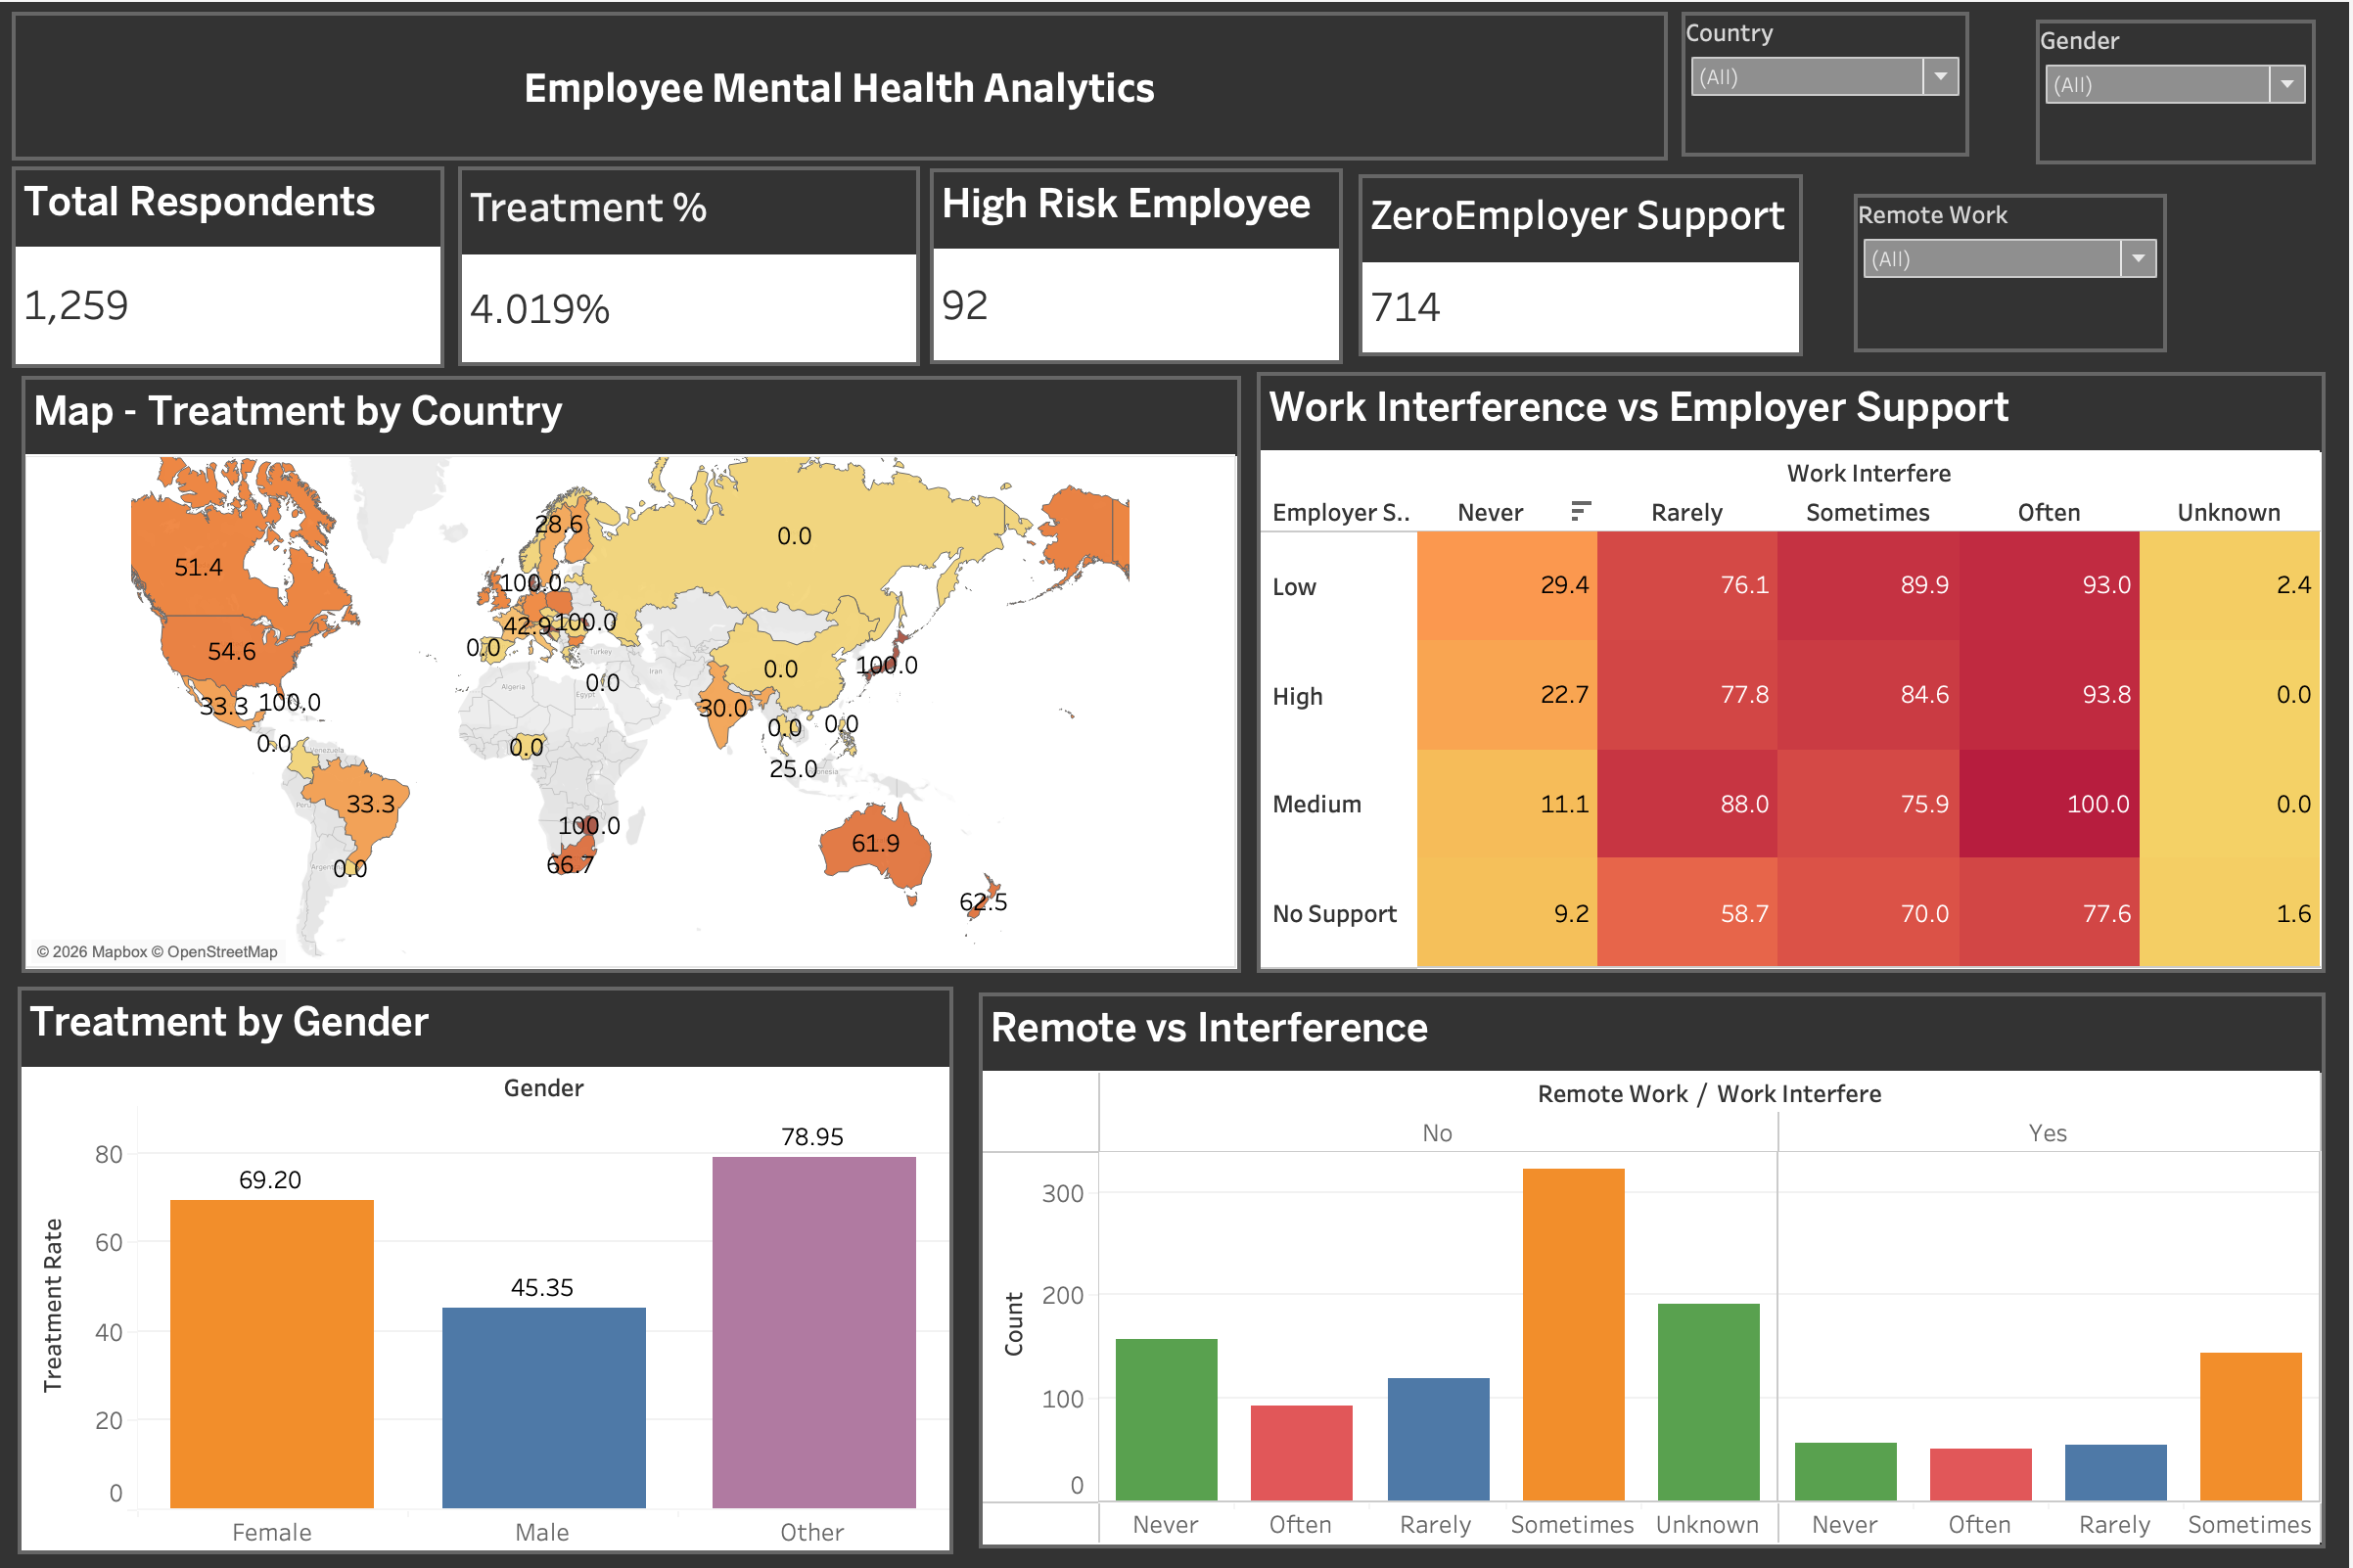

The page's visual inventory and layout, read from the dashboard file:
{"tool":"tableau","page":{"name":"Dashboard 1","canvas":[1200,800],"ordinal":0},"visuals":[{"type":"text","box":[6,5,846,76]},{"type":"filter","title":"Map - Treatment by Country","param":"[federated.1b2kr8k07s1nvr15e9y8l0hdosi5].[none:Country:nk]","box":[859,5,147,74]},{"type":"filter","title":"Treatment by Gender","param":"[federated.1b2kr8k07s1nvr15e9y8l0hdosi5].[none:Gender:nk]","box":[1040,9,143,74]},{"type":"worksheet","title":"Number of Records","mark":"Automatic","box":[6,84,221,103]},{"type":"worksheet","title":"Treatment %","mark":"Automatic","box":[234,84,236,102]},{"type":"worksheet","title":"High Risk Employees","mark":"Automatic","box":[475,85,211,100]},{"type":"worksheet","title":"Zero Employer Support","mark":"Automatic","box":[694,88,227,93]},{"type":"filter","title":"Remote vs Interference","param":"[federated.1b2kr8k07s1nvr15e9y8l0hdosi5].[none:RemoteWork:nk]","box":[947,98,160,81]},{"type":"worksheet","title":"Heatmap - Interference vs Support","mark":"Square","rows":["employer_support_label"],"cols":["WorkInterfere"],"box":[642,189,546,307]},{"type":"worksheet","title":"Map - Treatment by Country","mark":"Automatic","box":[11,191,623,305]},{"type":"worksheet","title":"Treatment by Gender","mark":"Automatic","rows":["Calculation_0242017355718656"],"cols":["Gender"],"box":[9,503,478,290]},{"type":"worksheet","title":"Remote vs Interference","mark":"Automatic","rows":["Calculation_0242017361412099"],"cols":["RemoteWork","WorkInterfere"],"box":[500,506,688,284]}]}

Visuals, with their boxes in screenshot pixels (x1, y1, x2, y2), scaled from the page's 1200x800 canvas onto the 2353x1568 screenshot:
text: (12, 10, 1671, 159)
"Map - Treatment by Country" filter: (1684, 10, 1972, 155)
"Treatment by Gender" filter: (2039, 18, 2320, 162)
"Number of Records" worksheet: (12, 164, 445, 366)
"Treatment %" worksheet: (459, 164, 922, 364)
"High Risk Employees" worksheet: (932, 166, 1345, 362)
"Zero Employer Support" worksheet: (1361, 172, 1806, 354)
"Remote vs Interference" filter: (1857, 192, 2171, 350)
"Heatmap - Interference vs Support" worksheet (Square marks): (1259, 370, 2330, 972)
"Map - Treatment by Country" worksheet: (22, 374, 1243, 972)
"Treatment by Gender" worksheet: (18, 986, 955, 1554)
"Remote vs Interference" worksheet: (981, 992, 2330, 1548)
